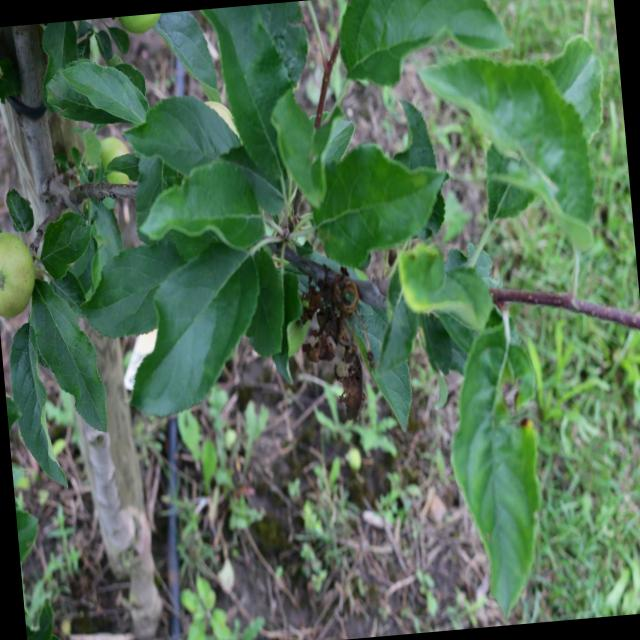-FireBlight-: (299, 264, 368, 424)
